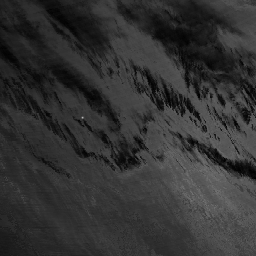Target: (80, 115, 84, 119)
